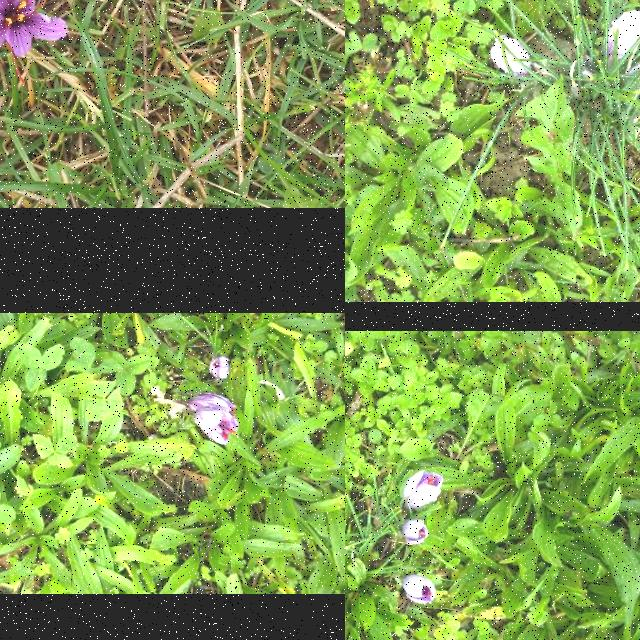flower: (0, 0, 83, 85), (599, 10, 640, 67), (490, 36, 532, 78), (402, 470, 442, 514), (404, 573, 436, 605), (402, 518, 428, 546), (209, 356, 229, 382)
overlap: (187, 394, 240, 446)
